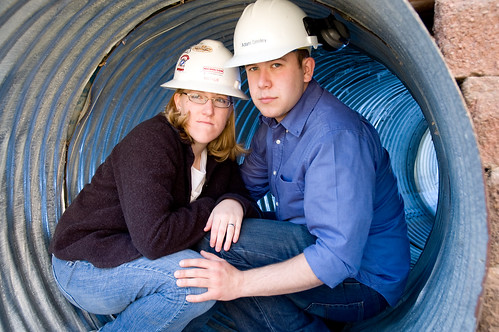person hardhat: (197, 2, 411, 332), (56, 39, 251, 330)
